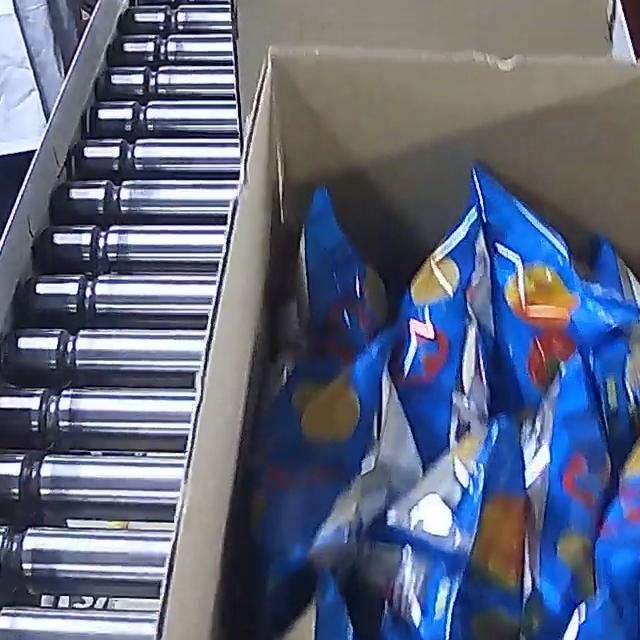paprika: (228, 160, 640, 640)
